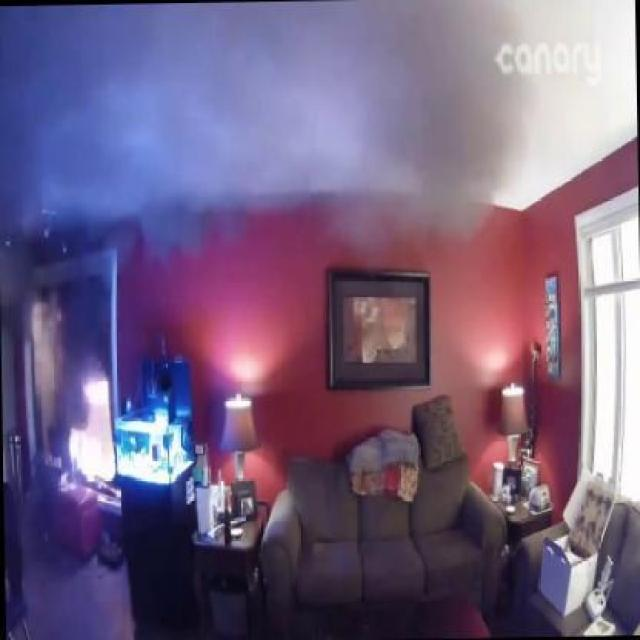smoke: (0, 8, 562, 260)
